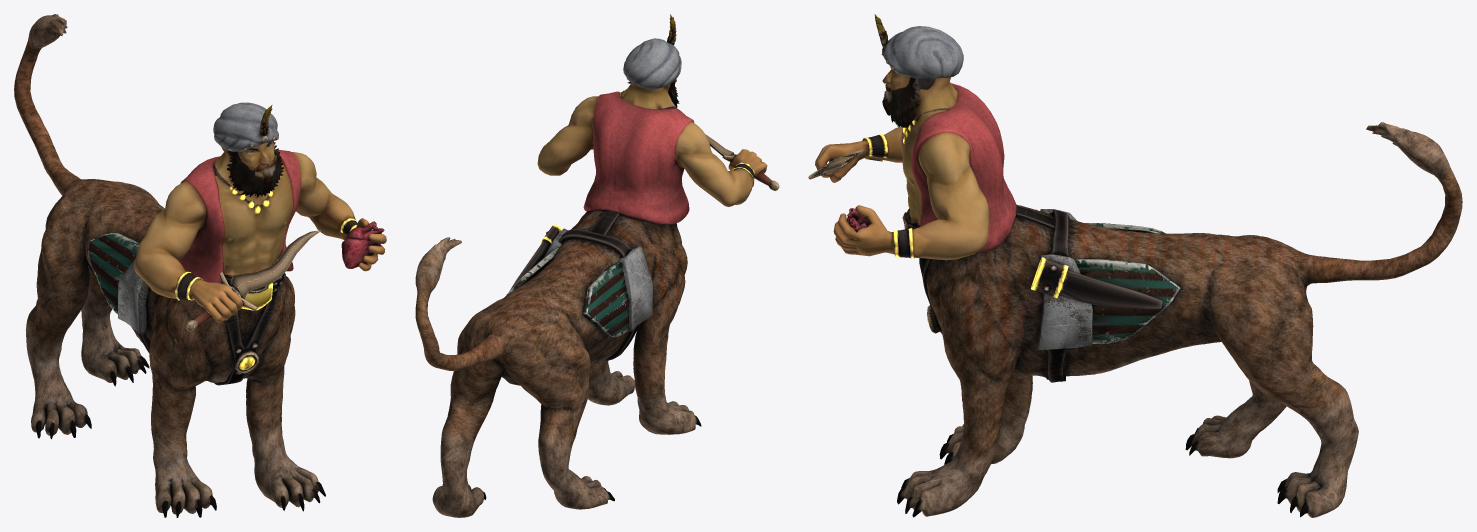
The model's file is MZ4250 - Lamia Male.glb.
3 renders of one model, left to right at view 1: azimuth 30°, elevation 25°; view 2: azimuth 150°, elevation 25°; view 3: azimuth 270°, elevation 25°, orthographic. The views are drawn at different scales.
Parts seen in each view (by area): view 1: Heart Model.001; view 2: Heart Model.001; view 3: Heart Model.001.
Boxes of the visible parts, bbox=[...] form: Heart Model.001: bbox=[14, 14, 386, 517]; Heart Model.001: bbox=[415, 14, 779, 517]; Heart Model.001: bbox=[808, 14, 1462, 517].
Bounding box in the file's own units: 0.7176 × 1.35 × 1.71.
Materials: 1 (1 with a texture image).
